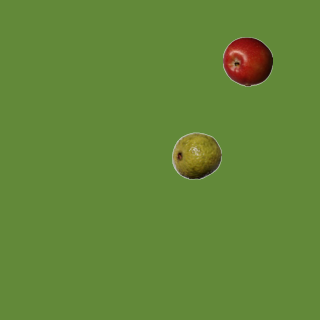Apple Braeburn: (222, 36, 272, 86)
Guava: (171, 130, 221, 180)
